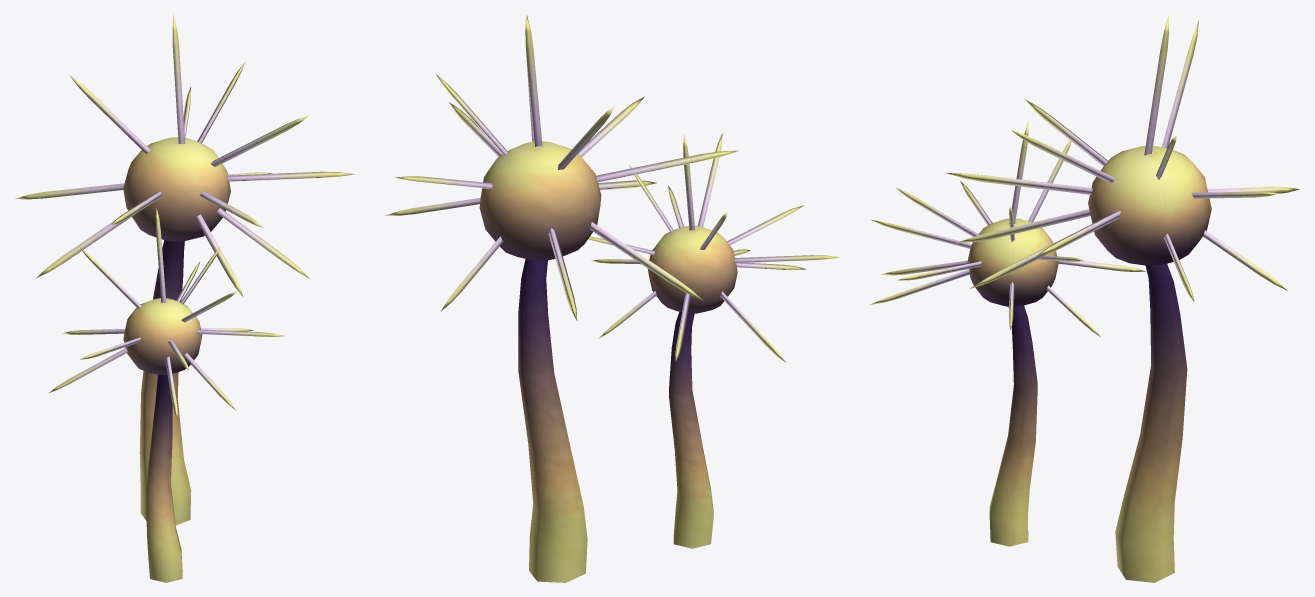
The model's file is Cartoon Seaweed_13-1-19.fbx.
3 views of the same model, side by side, from view 1: azimuth 30°, elevation 25°; view 2: azimuth 150°, elevation 25°; view 3: azimuth 270°, elevation 25° (orthographic). The views are drawn at different scales.
Visible parts, largest first — view 1: Cartoon Seaweed_13.1.19; view 2: Cartoon Seaweed_13.1.19; view 3: Cartoon Seaweed_13.1.19.
Boxes of the visible parts, x1,y1,x2,y2 form: Cartoon Seaweed_13.1.19: (15, 14, 355, 582); Cartoon Seaweed_13.1.19: (385, 15, 839, 582); Cartoon Seaweed_13.1.19: (870, 15, 1299, 582).
Bounding box in the file's own units: 21.63 × 32.86 × 22.67.
1 material, 1 textured.
